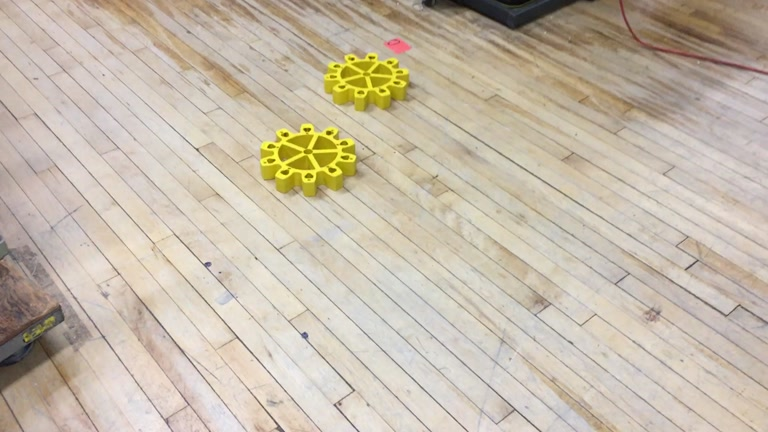gear: (259, 122, 359, 197), (323, 52, 410, 111)
